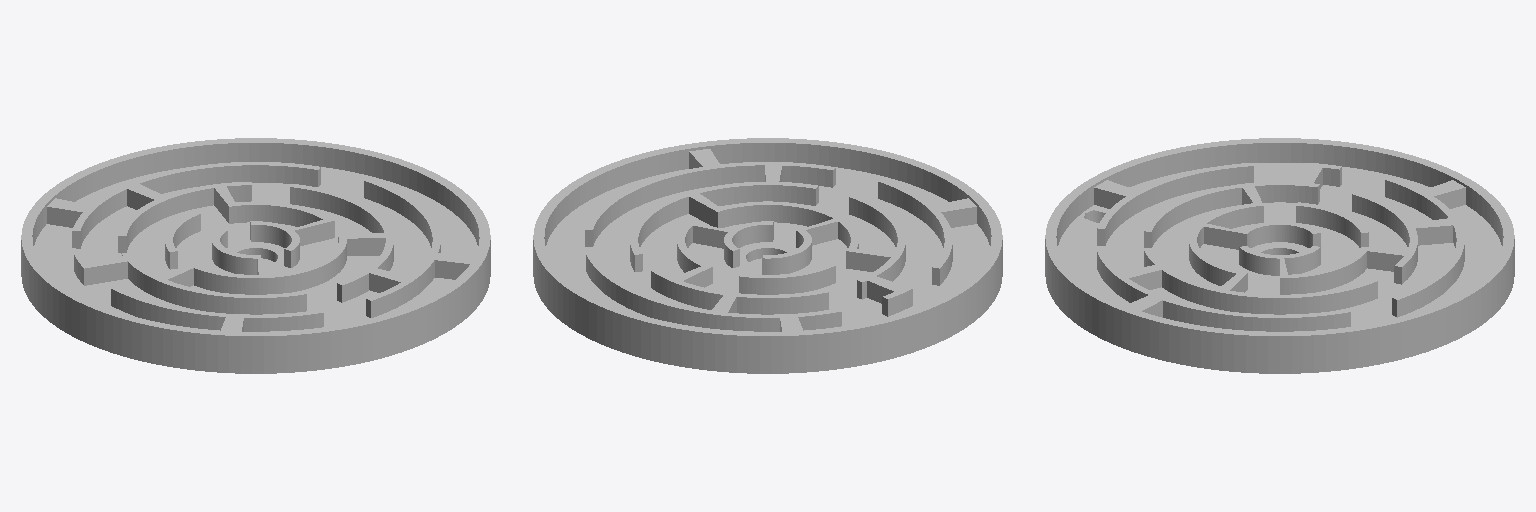
Rendered from night12.obj.
3 renders of one model, left to right at view 1: azimuth 30°, elevation 25°; view 2: azimuth 150°, elevation 25°; view 3: azimuth 270°, elevation 25°, orthographic.
Parts seen in each view (by area): view 1: Cylinder; view 2: Cylinder; view 3: Cylinder.
Part boxes in pixels (left/top/right/bottom): Cylinder: left=21, top=138, right=490, bottom=373; Cylinder: left=533, top=138, right=1002, bottom=373; Cylinder: left=1045, top=138, right=1514, bottom=373.
Size of the model in its own units: 3.4 by 0.3 by 3.4.